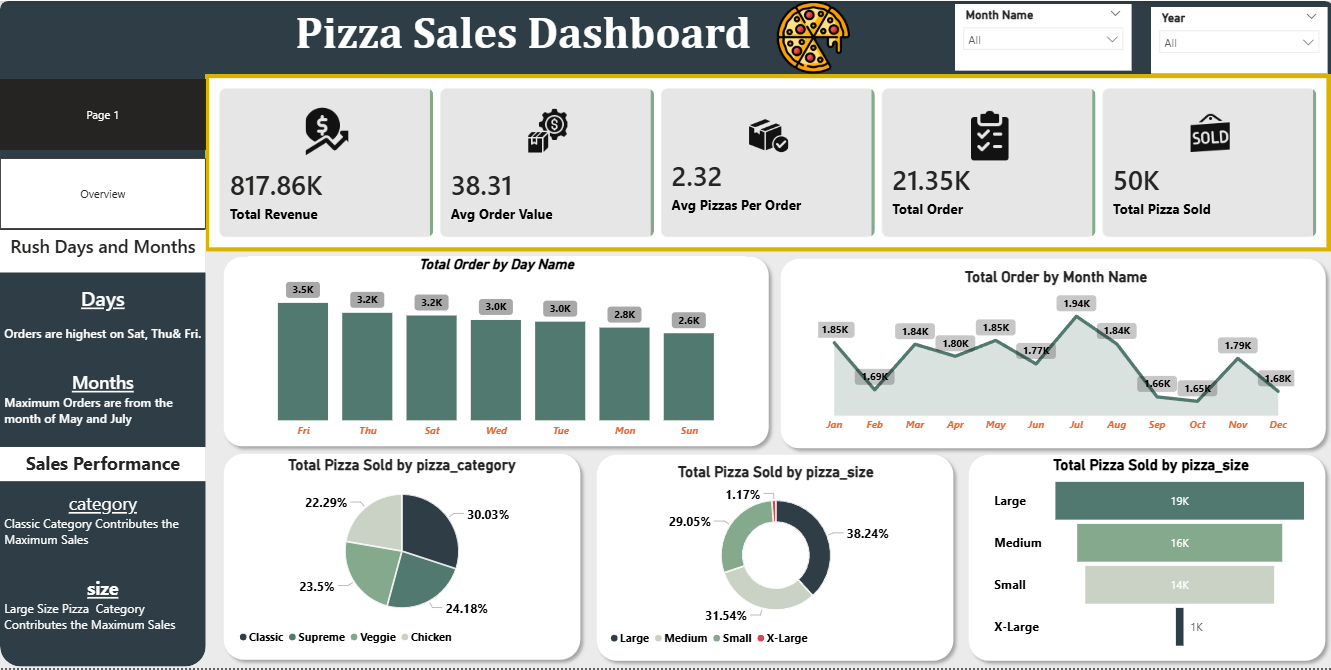

What the dashboard file says about the page in this screenshot:
{"tool":"powerbi","page":{"name":"Page 1","canvas":[1600,800],"ordinal":0},"visuals":[{"type":"shape","box":[0,0,1600,97.2],"z":0},{"type":"shape","box":[0,65.3,247.1,734.2],"z":1000},{"type":"cardVisual","fields":{"Data":["Measure.Total Revenue","Measure.Avg Order Value","Measure.Avg Pizzas Per Order","Measure.Total Order","Measure.Total Pizza Sold"]},"box":[246.6,87.1,1353.4,213.1],"z":2000},{"type":"shape","box":[258.7,297.2,672.4,245.9],"z":3000},{"type":"shape","box":[927.6,300.7,672.4,245.9],"z":4000},{"type":"shape","box":[258.7,533.7,446.3,265.7],"z":5000},{"type":"lineChart","fields":{"Category":["Calender_Table.Month Name"],"Y":["Measure.Total Order"]},"box":[976.5,320.5,581.5,206.3],"z":6000},{"type":"columnChart","fields":{"Category":["Calender_Table.Day Name"],"Y":["Measure.Total Order"]},"box":[297.2,306.5,596.6,227.2],"z":7000},{"type":"shape","box":[707.4,534.9,446.3,265.7],"z":8000},{"type":"shape","box":[1153.7,534.9,446.3,265.7],"z":9000},{"type":"pieChart","fields":{"Category":["pizza_sales.pizza_category"],"Y":["Measure.Total Pizza Sold"]},"box":[280.8,546.5,403.2,236.6],"z":10000},{"type":"donutChart","fields":{"Y":["Measure.Total Pizza Sold"],"Category":["pizza_sales.pizza_size"]},"box":[726,554.7,410.2,229.6],"z":11000},{"type":"funnel","fields":{"Category":["pizza_sales.pizza_size"],"Y":["Measure.Total Pizza Sold"]},"box":[1188.6,546.5,386.9,237.7],"z":12000},{"type":"textbox","box":[180.6,0,896.1,87.4],"z":13000},{"type":"image","box":[906.6,0,139.8,87.4],"z":14000},{"type":"textbox","box":[0,535,246.8,41.3],"z":15000},{"type":"textbox","box":[0,274.8,246.8,51.1],"z":16000},{"type":"textbox","box":[0,583.6,246.8,200.6],"z":17000},{"type":"textbox","box":[0,334.3,246.8,200.6],"z":18000},{"type":"slicer","fields":{"Values":["Calender_Table.Month Name"]},"box":[1146.5,3.6,211.6,80.2],"z":19000},{"type":"slicer","fields":{"Values":["Calender_Table.Year"]},"box":[1381.2,7.3,211.6,80.2],"z":20000},{"type":"pageNavigator","box":[0,93.1,247.3,181.8],"z":21000}]}

Visuals, with their boxes in screenshot pixels (x1, y1, x2, y2), scaled from the page's 1600x800 canvas onto the 1331x670 screenshot:
shape: (0,0,1330,81)
shape: (0,55,206,669)
cardVisual - Measure.Total Revenue x Measure.Avg Order Value: (205,73,1330,251)
shape: (215,249,775,455)
shape: (772,252,1330,458)
shape: (215,447,586,669)
lineChart - Calender_Table.Month Name x Measure.Total Order: (812,268,1296,441)
columnChart - Calender_Table.Day Name x Measure.Total Order: (247,257,744,447)
shape: (588,448,960,669)
shape: (960,448,1330,669)
pieChart - pizza_sales.pizza_category x Measure.Total Pizza Sold: (234,458,569,656)
donutChart - Measure.Total Pizza Sold x pizza_sales.pizza_size: (604,465,945,657)
funnel - pizza_sales.pizza_size x Measure.Total Pizza Sold: (989,458,1311,657)
textbox: (150,0,896,73)
image: (754,0,870,73)
textbox: (0,448,205,483)
textbox: (0,230,205,273)
textbox: (0,489,205,657)
textbox: (0,280,205,448)
slicer - Calender_Table.Month Name: (954,3,1130,70)
slicer - Calender_Table.Year: (1149,6,1325,73)
pageNavigator: (0,78,206,230)
